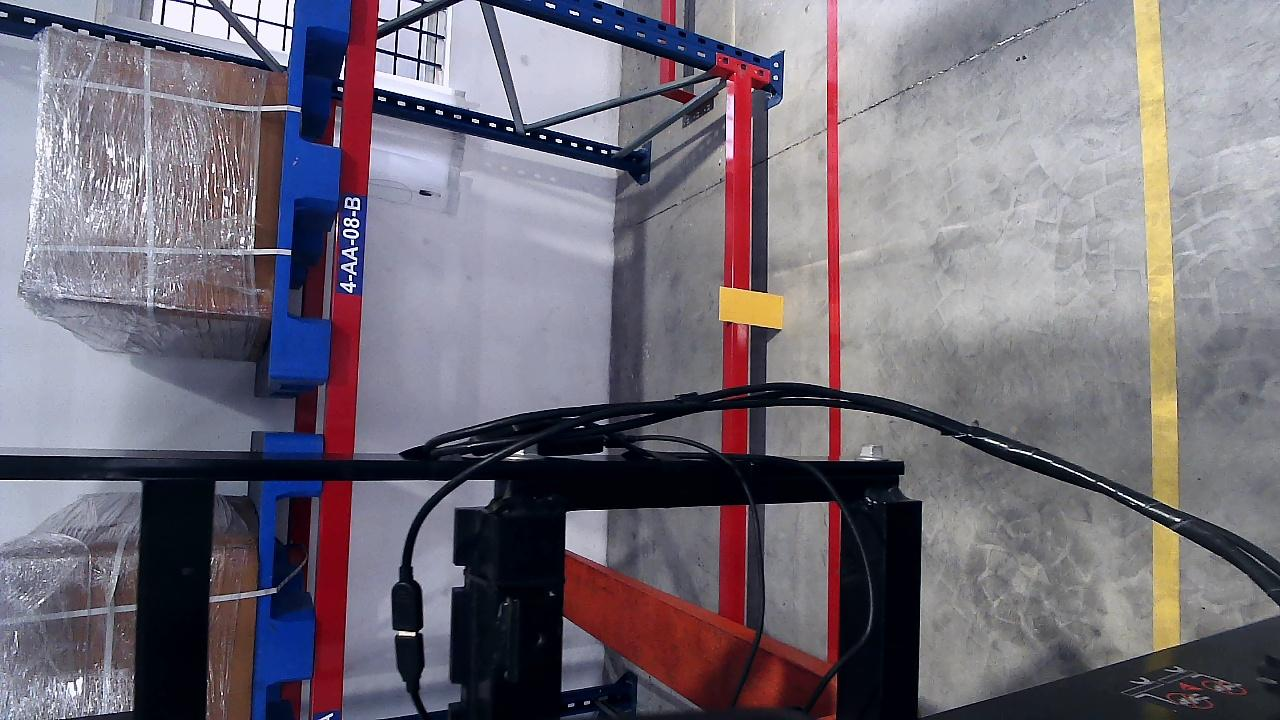h_rack: (320, 0, 380, 456), (310, 480, 355, 718), (728, 76, 757, 387)
orange_strip: (719, 285, 784, 328)
red_line: (823, 6, 842, 457)
small_pallet: (271, 0, 349, 378)
yellow_line: (1134, 0, 1181, 645)
